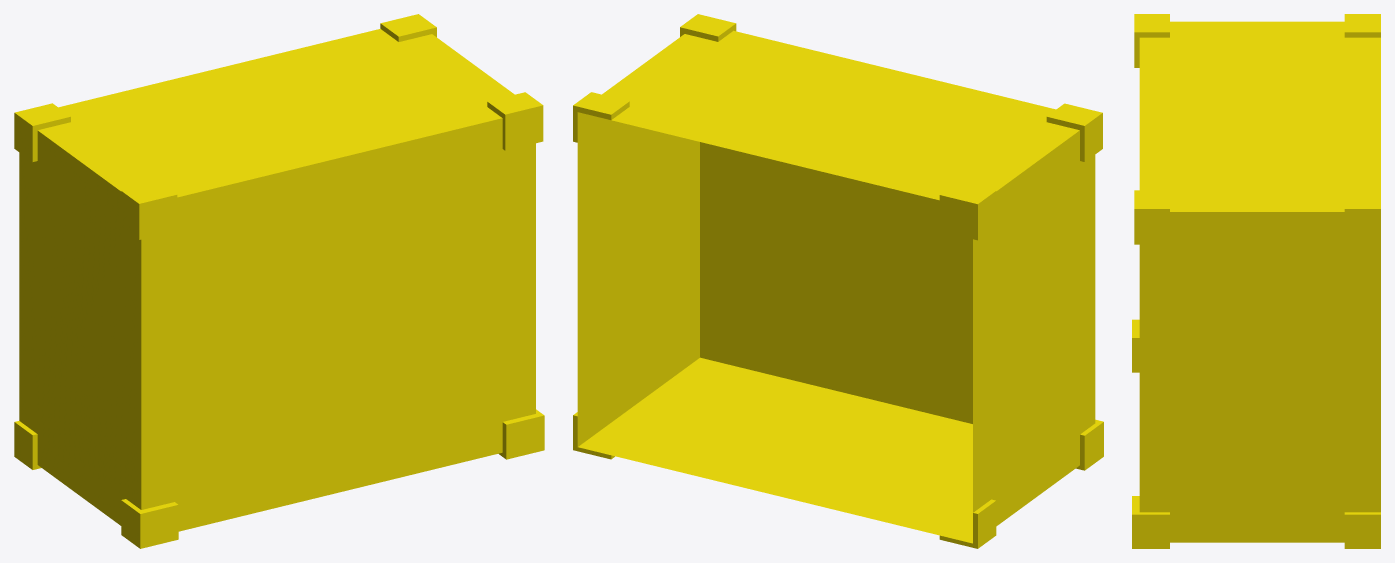
Rendered from Crate.fbx.
3 views of the same model, side by side, from view 1: azimuth 30°, elevation 25°; view 2: azimuth 150°, elevation 25°; view 3: azimuth 270°, elevation 25° (orthographic).
Visible parts, largest first — view 1: Crate; view 2: Crate; view 3: Crate.
Part boxes in pixels (left/top/right/bottom): Crate: left=14, top=14, right=544, bottom=548; Crate: left=573, top=14, right=1103, bottom=548; Crate: left=1132, top=14, right=1380, bottom=548.
Size of the model in its own units: 60.26 by 49.03 by 32.52.
